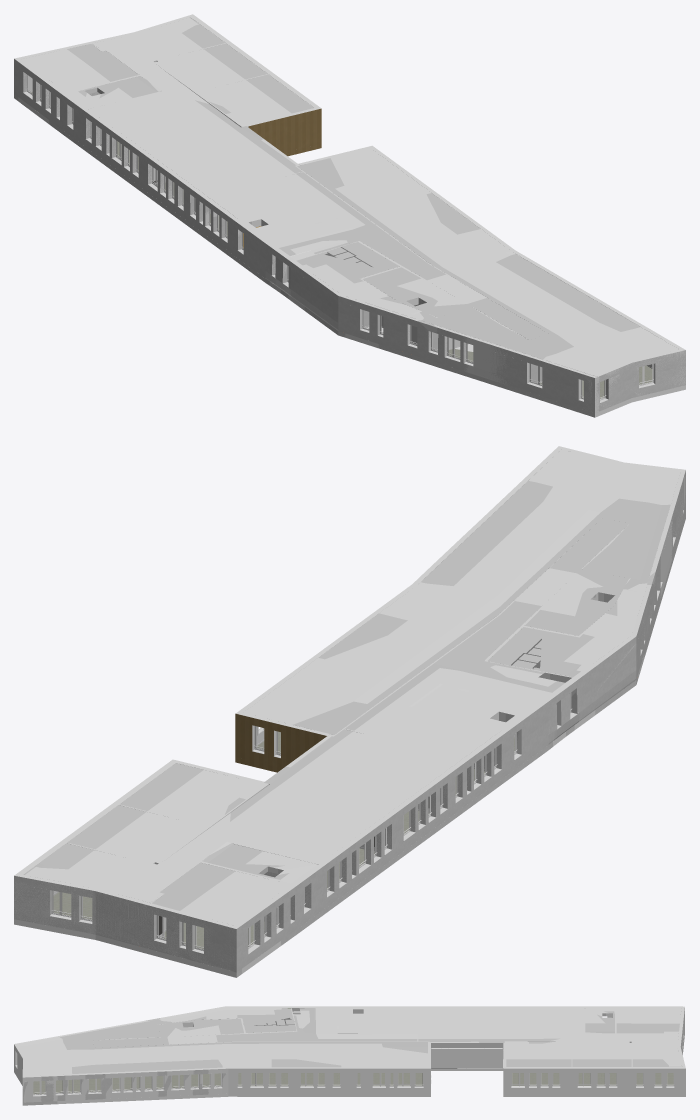
File: 3_floor_aisle_b_sized_v5.glb
The picture shows the model from 3 angles, top to bottom: view 1: azimuth 30°, elevation 25°; view 2: azimuth 150°, elevation 25°; view 3: azimuth 270°, elevation 25°; orthographic projection. The views are drawn at different scales.
Parts seen in each view (by area): view 1: SIMP_COL, NOCOL_Murs, NOCOL_Plafond, NOCOL_Sol, NOCOL_SM_MERGED_fenetre_3e_aileb; view 2: SIMP_COL, NOCOL_Plafond, NOCOL_Murs, NOCOL_Sol, NOCOL_SM_MERGED_fenetre_3e_aileb; view 3: SIMP_COL, NOCOL_Plafond, NOCOL_Sol, NOCOL_SM_MERGED_fenetre_3e_aileb, NOCOL_Murs.
Boxes of the visible parts, x1,y1,x2,y2 form: SIMP_COL: [14, 14, 685, 417]; NOCOL_Murs: [14, 45, 685, 413]; NOCOL_Plafond: [67, 17, 639, 359]; NOCOL_Sol: [14, 92, 652, 417]; NOCOL_SM_MERGED_fenetre_3e_aileb: [23, 75, 655, 403]; SIMP_COL: [14, 446, 685, 977]; NOCOL_Plafond: [23, 481, 670, 910]; NOCOL_Murs: [14, 470, 685, 972]; NOCOL_Sol: [53, 514, 685, 977]; NOCOL_SM_MERGED_fenetre_3e_aileb: [50, 510, 683, 954]; SIMP_COL: [14, 1006, 685, 1104]; NOCOL_Plafond: [60, 1008, 681, 1073]; NOCOL_Sol: [22, 1068, 673, 1105]; NOCOL_SM_MERGED_fenetre_3e_aileb: [15, 1011, 684, 1096]; NOCOL_Murs: [22, 1008, 631, 1102].
Size of what is drawn, in the model's own units: 18.93 by 3.51 by 75.11.
31 materials, 9 textured.
